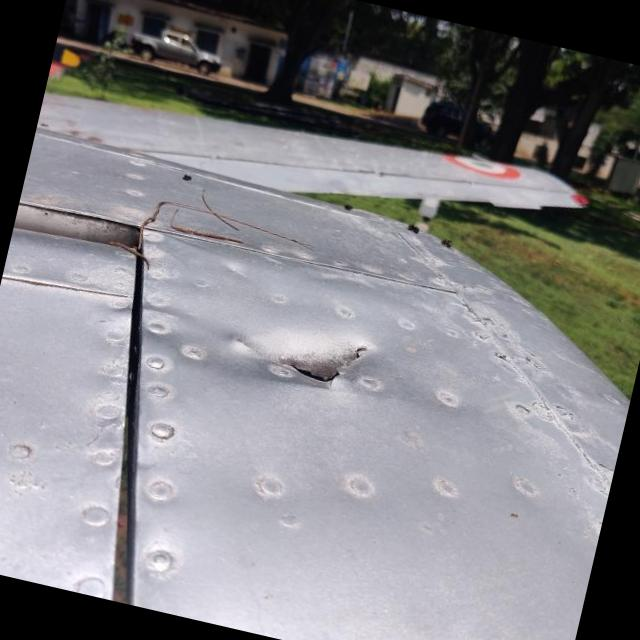Crack: (228, 293, 385, 393)
